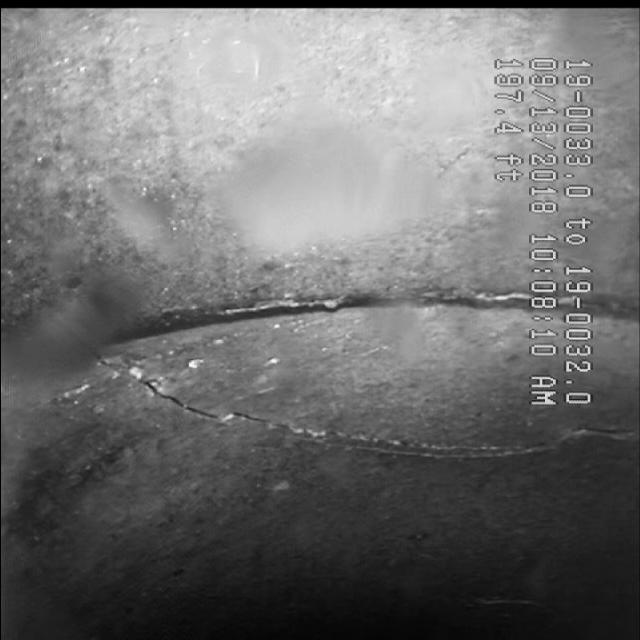Crack: (126, 392, 604, 480)
